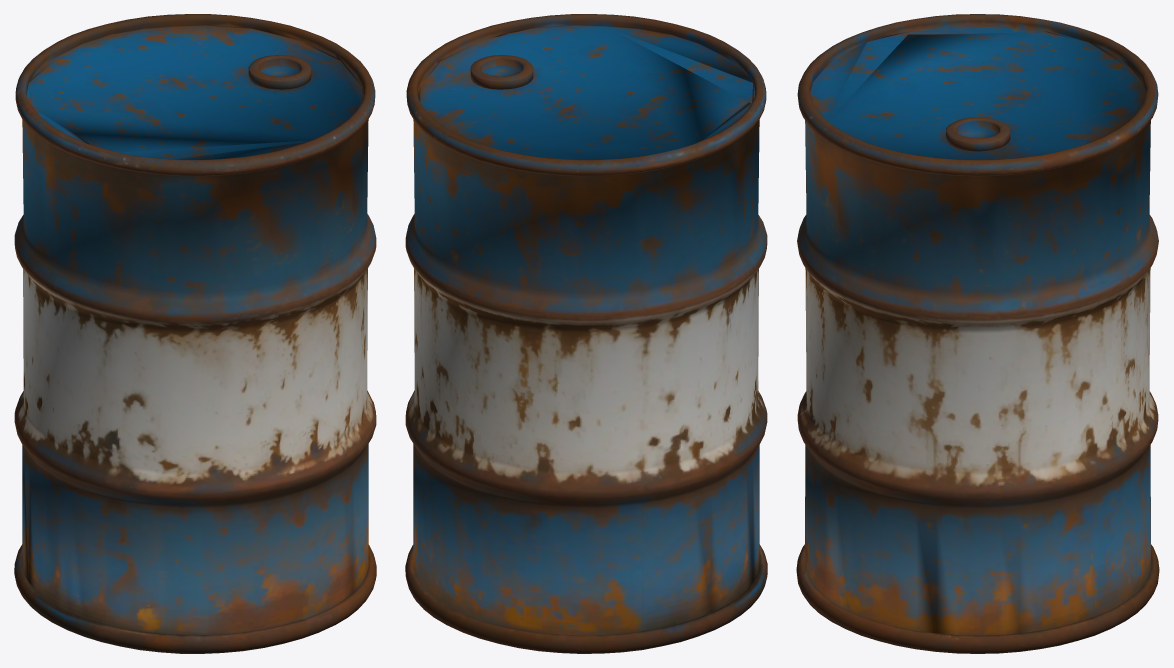
The model's file is old_oil_barrel_a6459ce8_v2.glb.
The picture shows the model from 3 angles, left to right: view 1: azimuth 30°, elevation 25°; view 2: azimuth 150°, elevation 25°; view 3: azimuth 270°, elevation 25°; orthographic projection.
Visible parts, largest first — view 1: material; view 2: material; view 3: material.
Boxes of the visible parts, bbox=[...] form: material: bbox=[14, 14, 376, 653]; material: bbox=[405, 14, 767, 653]; material: bbox=[796, 14, 1159, 653].
Bounding box in the file's own units: 1.27 × 1.9 × 1.27.
Materials: 1 (1 with a texture image).
